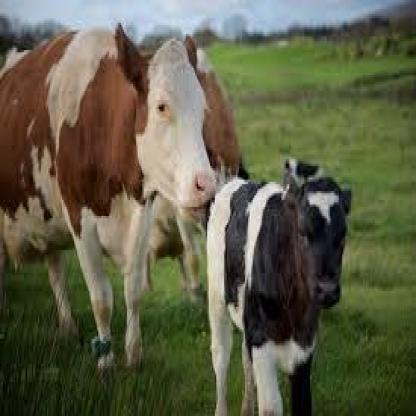cow: (0, 21, 221, 384), (95, 46, 242, 296), (207, 177, 353, 416), (284, 156, 324, 178)
